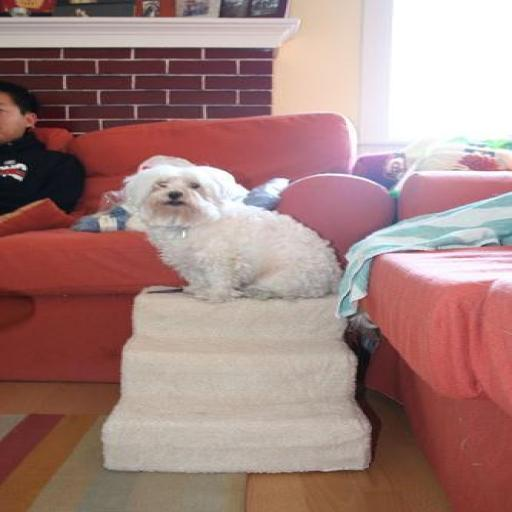dog_face: (112, 155, 239, 225)
